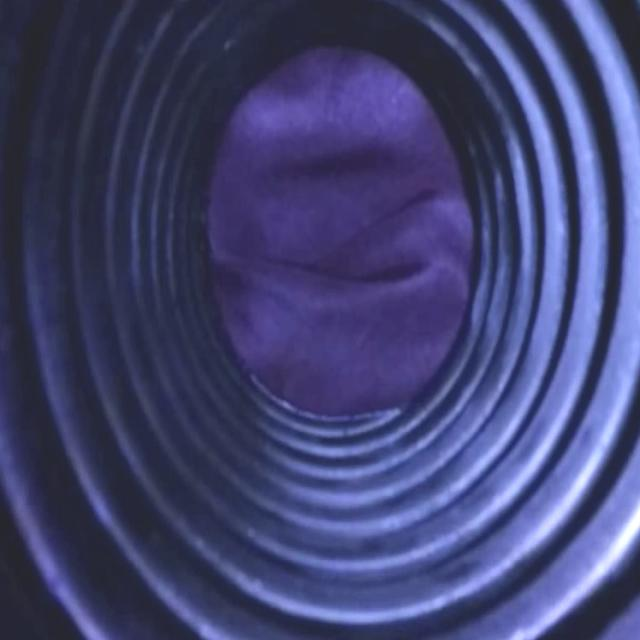block: (204, 46, 482, 415)
